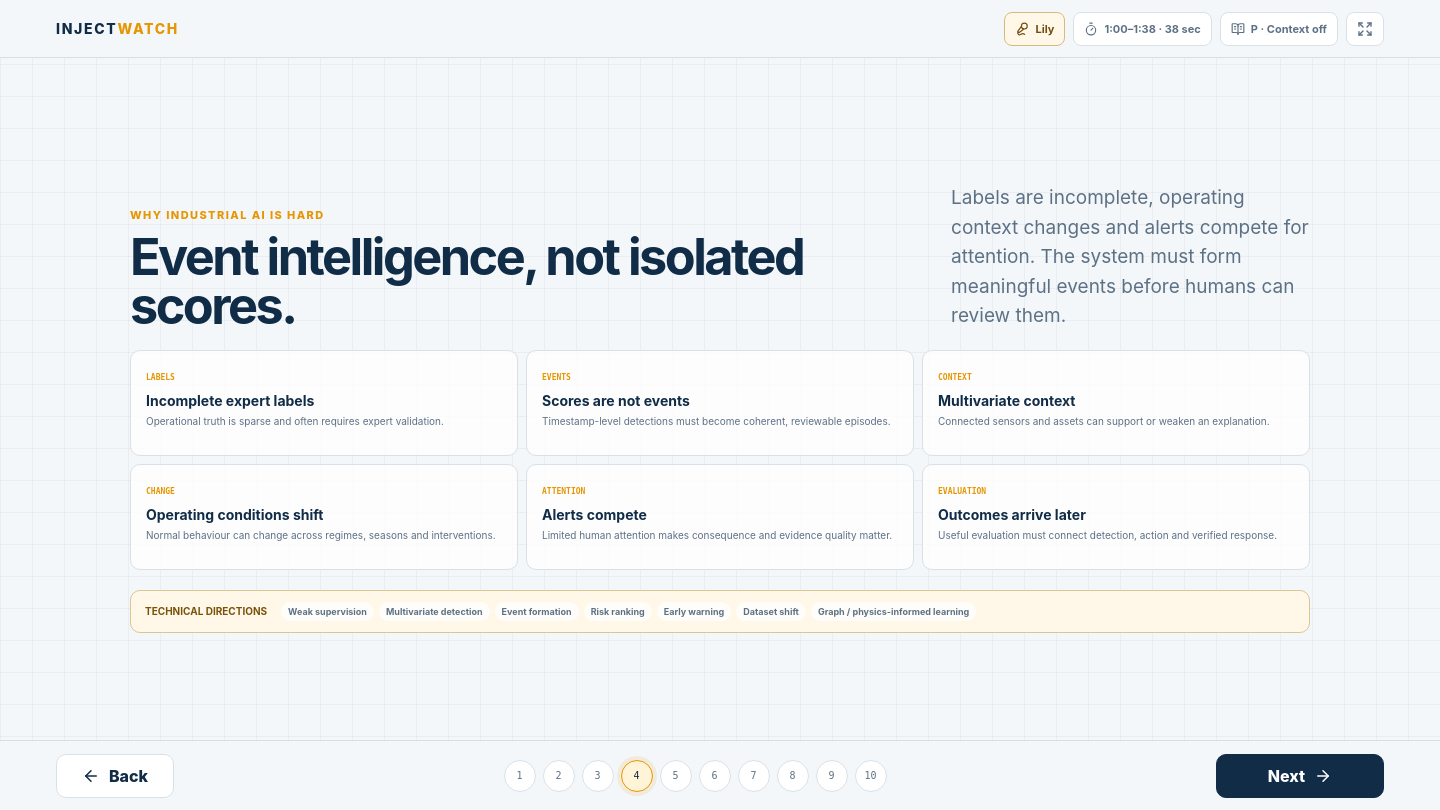
Test case: stable routes and critical wording › shows industrial AI challenges and optional audience context
Expected: the heading "Event intelligence, not isolated scores." is shown, 130,232 -> 903,331
Expected: the heading "Incomplete expert labels" is shown, 146,392 -> 314,409
Click the button "P · Context off": (1279, 28) 1220,12 -> 1338,46
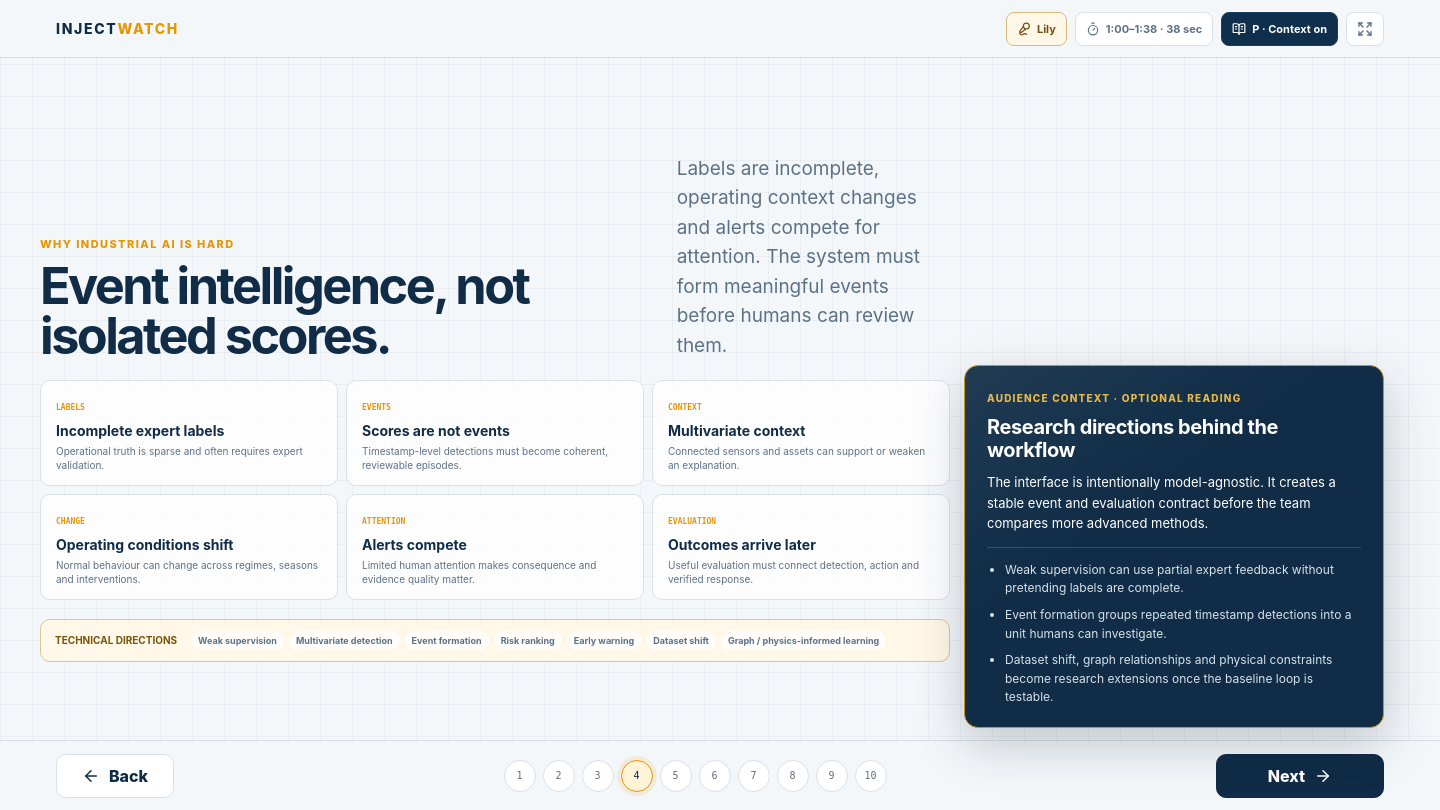
Now the element named "Optional audience context" is shown, box 964,365 -> 1384,728
Now the heading "Research directions behind the workflow" is shown, box 987,415 -> 1278,462
